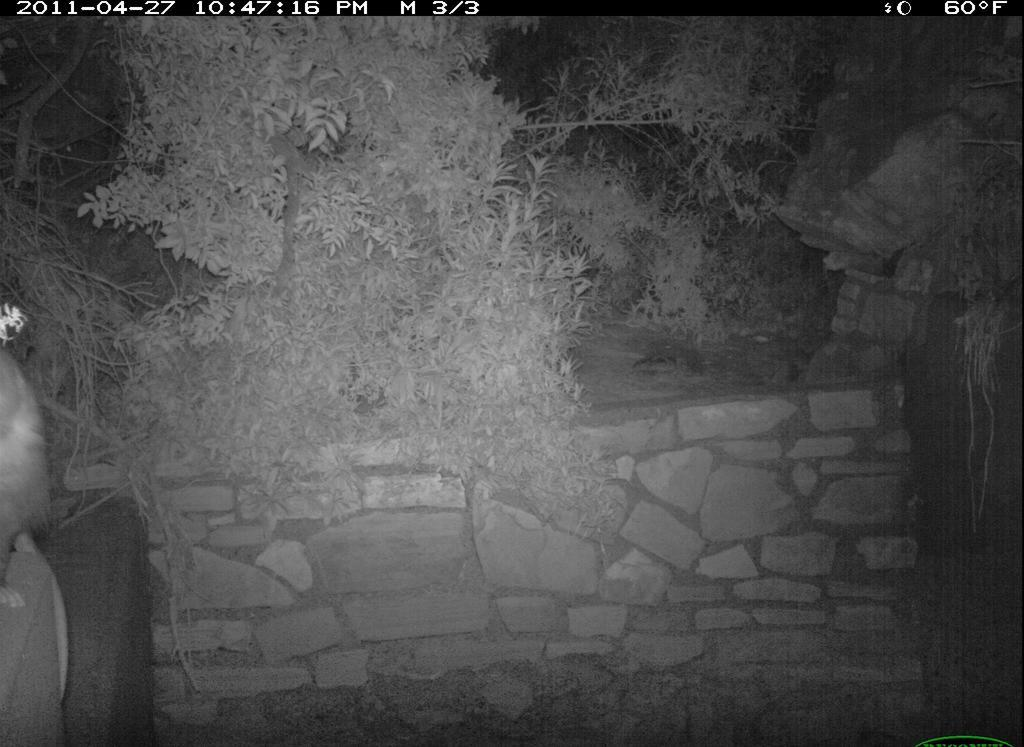opossum: (3, 303, 85, 624)
